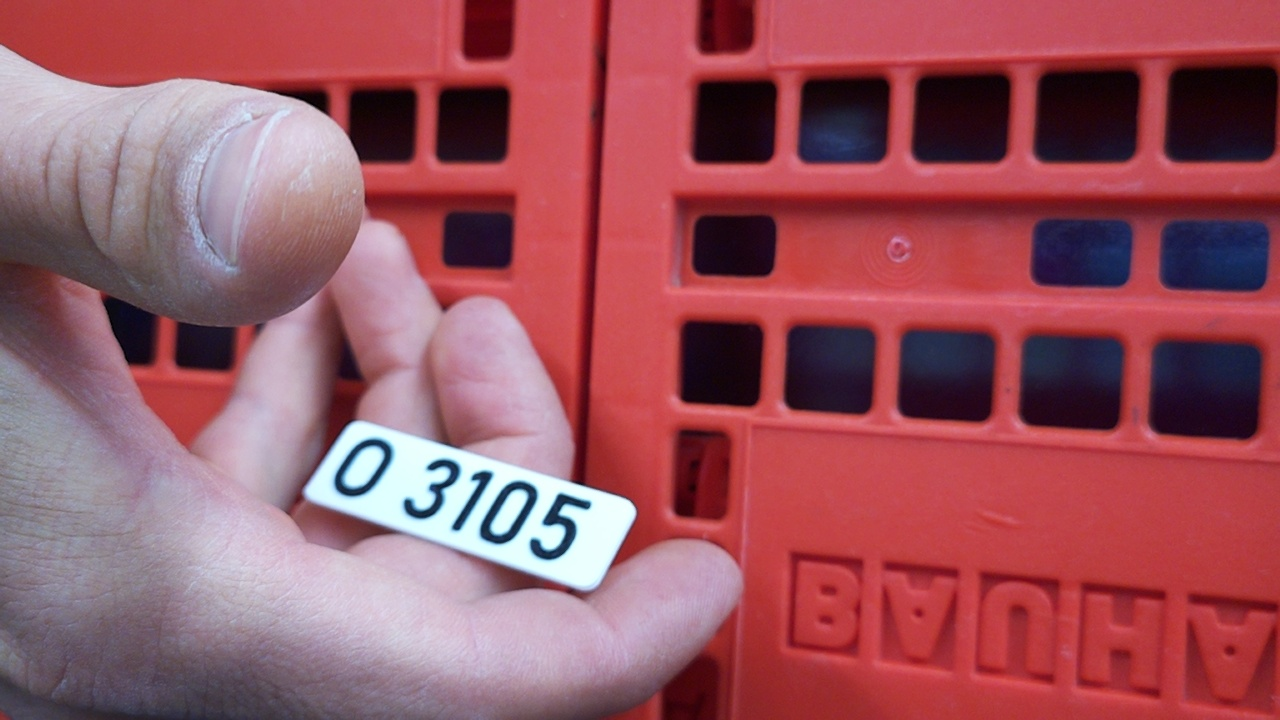license_plate: (298, 416, 642, 597)
